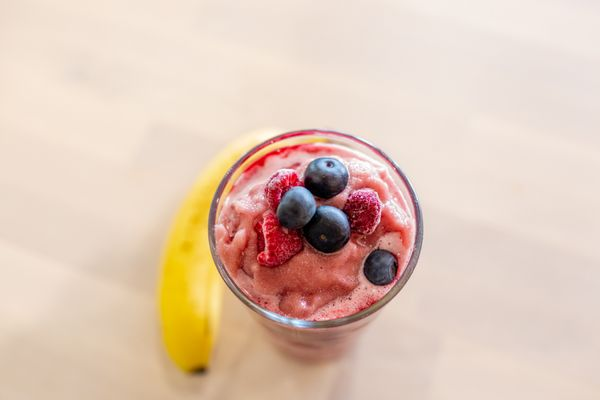sushi: (208, 130, 422, 361)
